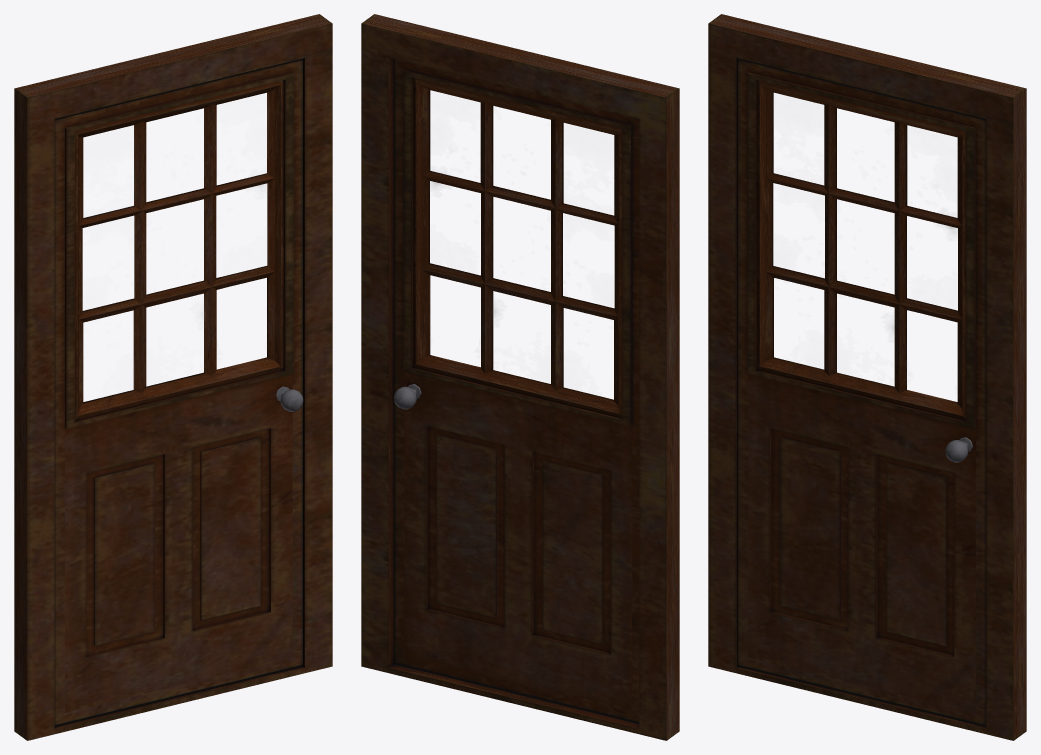
3 renders of one model, left to right at view 1: azimuth 30°, elevation 25°; view 2: azimuth 150°, elevation 25°; view 3: azimuth 330°, elevation 25°, orthographic.
Visible parts, largest first — view 1: door, frame; view 2: door, frame; view 3: door, frame.
Boxes of the visible parts, x1,y1,x2,y2 form: door: (54,59,303,725); frame: (14,14,332,740); door: (394,59,639,721); frame: (361,14,679,740); door: (738,59,986,725); frame: (708,14,1026,740).
Bounding box in the file's own units: 120 × 242 × 25.46.
Materials: 3 (3 with a texture image).
